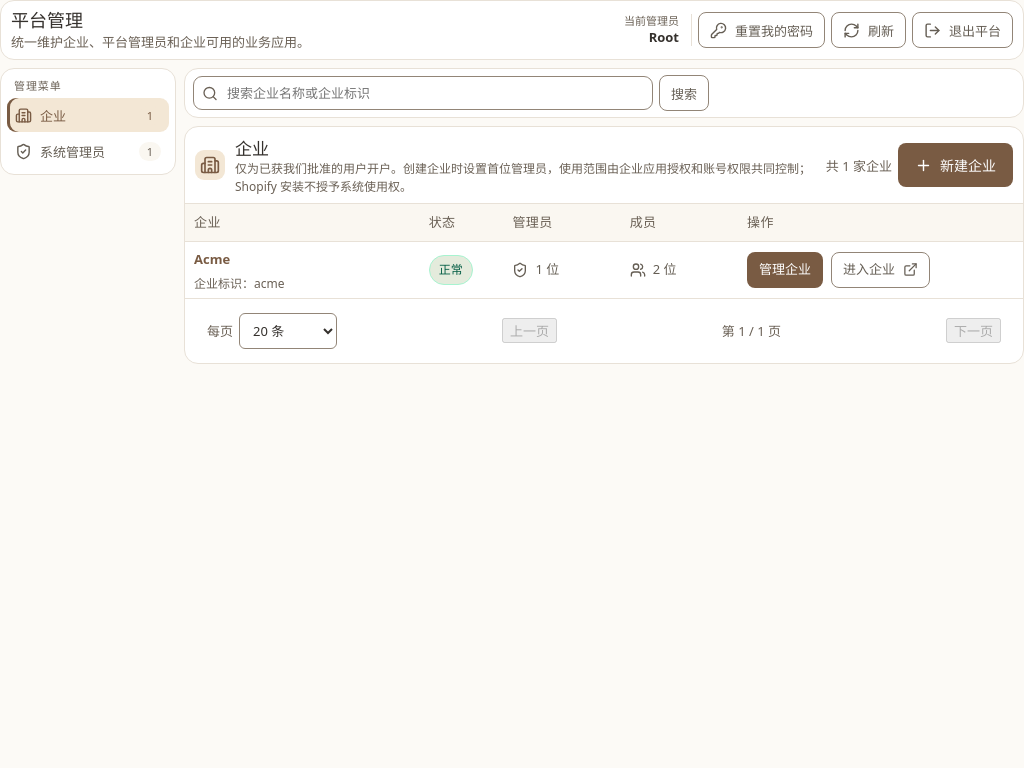
PlatformAdminConsolePage › renders lists, creates an administrator, copies and closes a one-time credential
Expected: the button "Acme" is shown, [194, 248, 230, 272]
Click the tab "系统管理员 1": (88, 151) [7, 134, 169, 168]
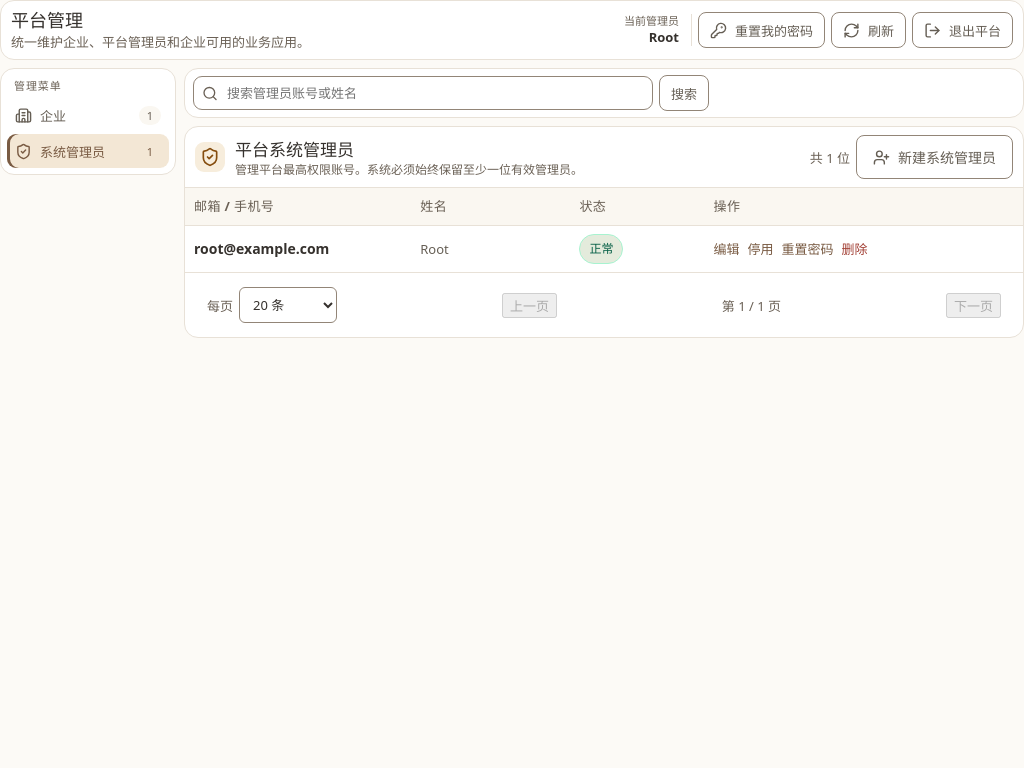
Click the button "新建系统管理员": (934, 157) [856, 135, 1013, 179]
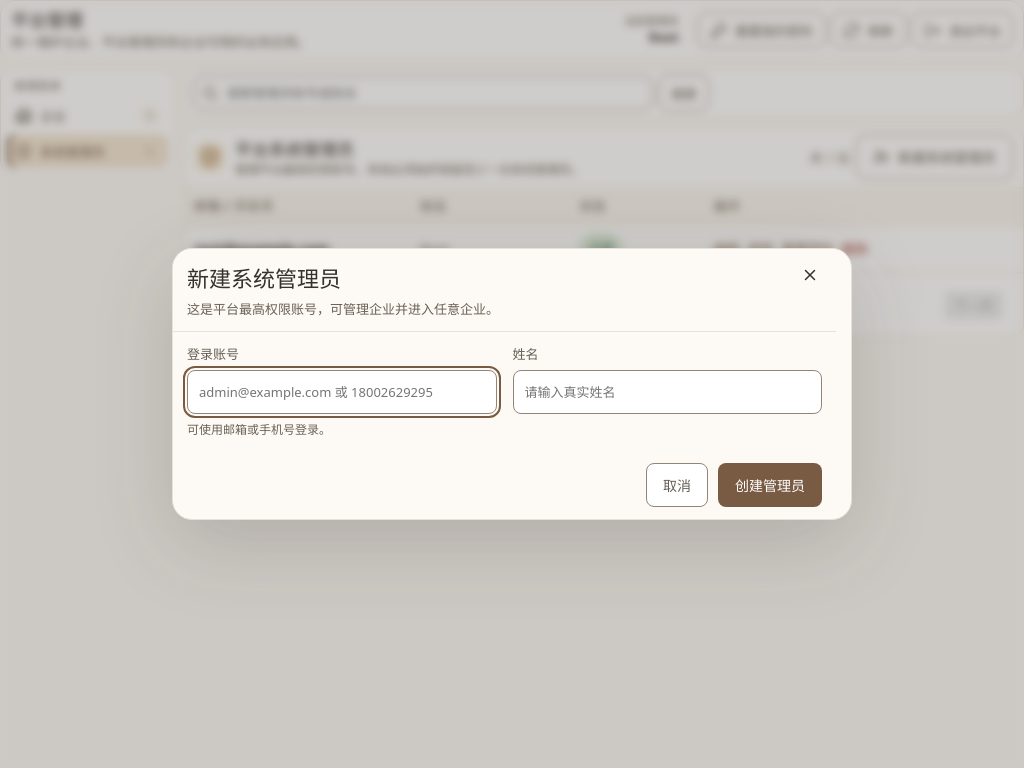
In the field labelled "邮箱或手机号": (342, 392) [187, 370, 496, 414], type "Second@Example.com"
In the field labelled "姓名": (667, 392) [512, 370, 822, 414], type "Second"
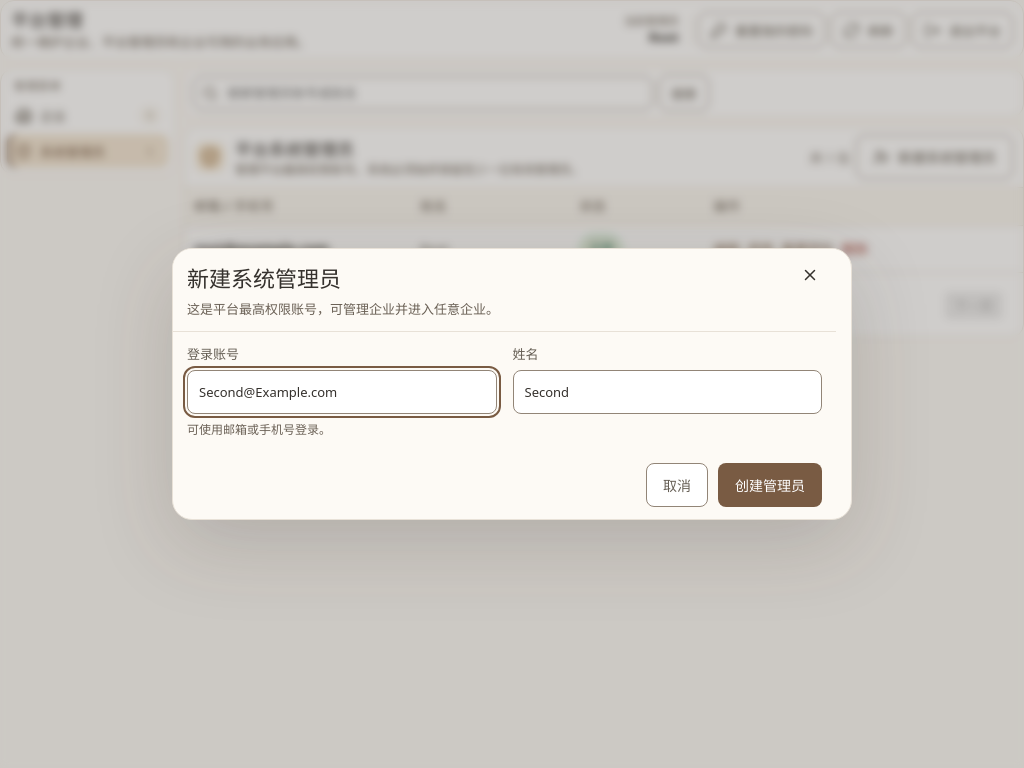
Click the button "创建管理员": (770, 485) [718, 463, 822, 507]
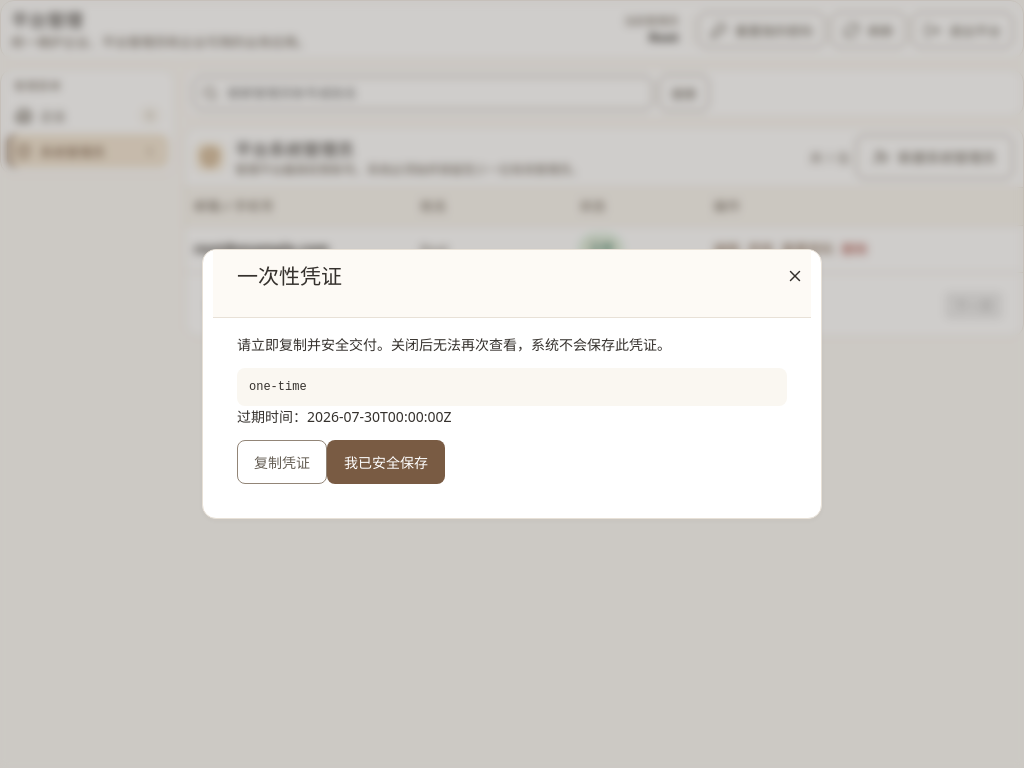
Result: the dialog is shown at [202, 249, 822, 519]
Click the button "复制凭证": (282, 462) [237, 440, 327, 484]
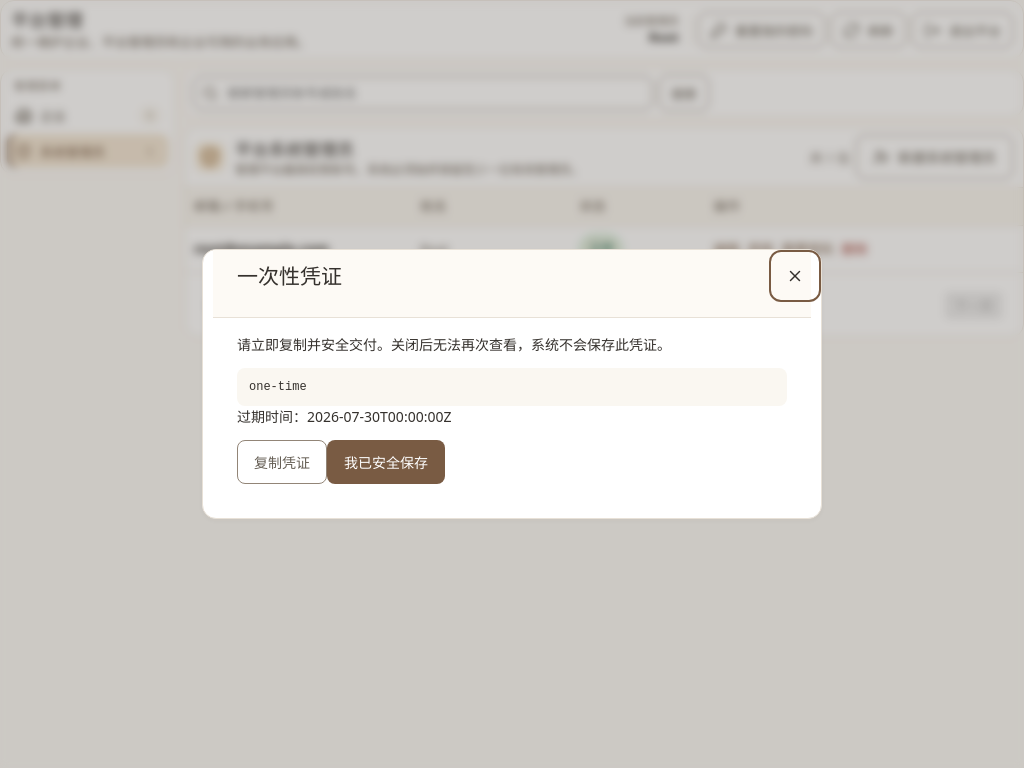
Click the button "我已安全保存": (386, 462) [327, 440, 445, 484]
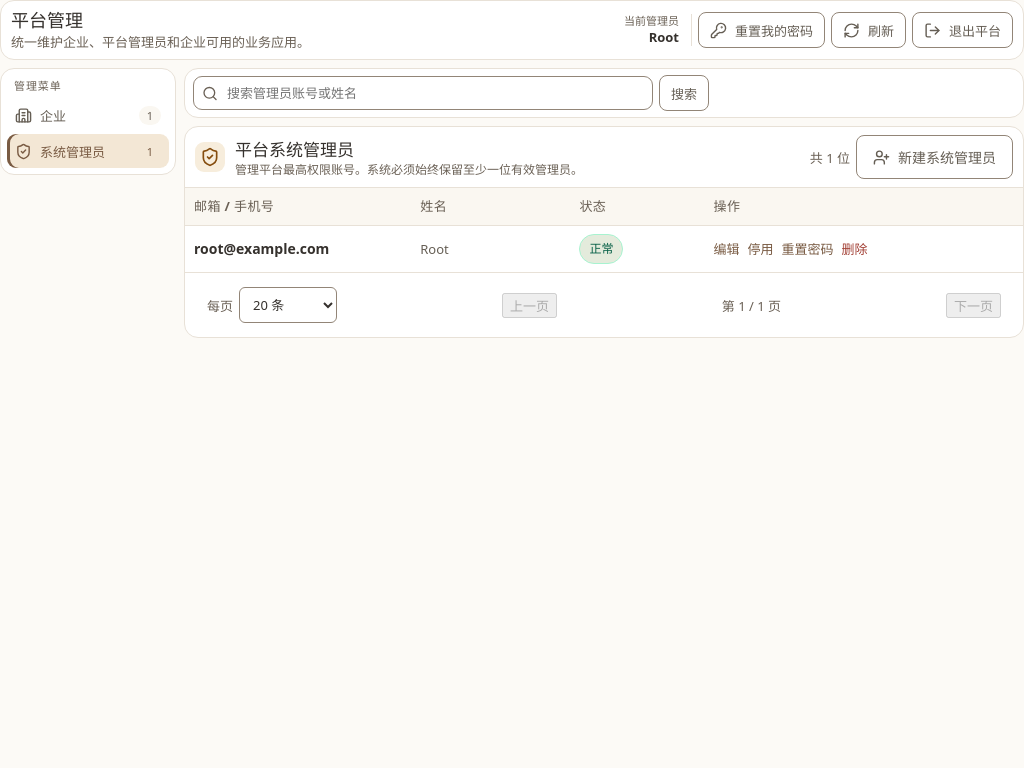
Result: the dialog is gone
